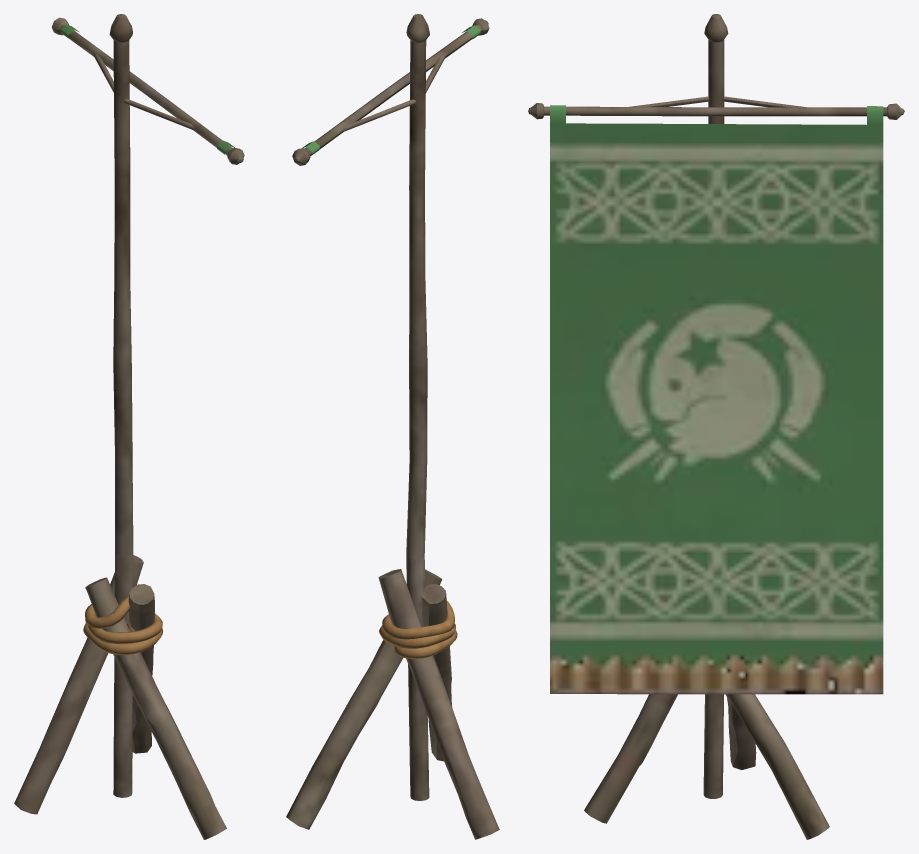
Rendered from SM_ConservationGroupBannerA_1e2e15.glb.
The picture shows the model from 3 angles, left to right: view 1: azimuth 30°, elevation 25°; view 2: azimuth 150°, elevation 25°; view 3: azimuth 270°, elevation 25°; orthographic projection.
Size of the model in its own units: 0.4965 by 2.19 by 0.9441.
1 material, 1 textured.
